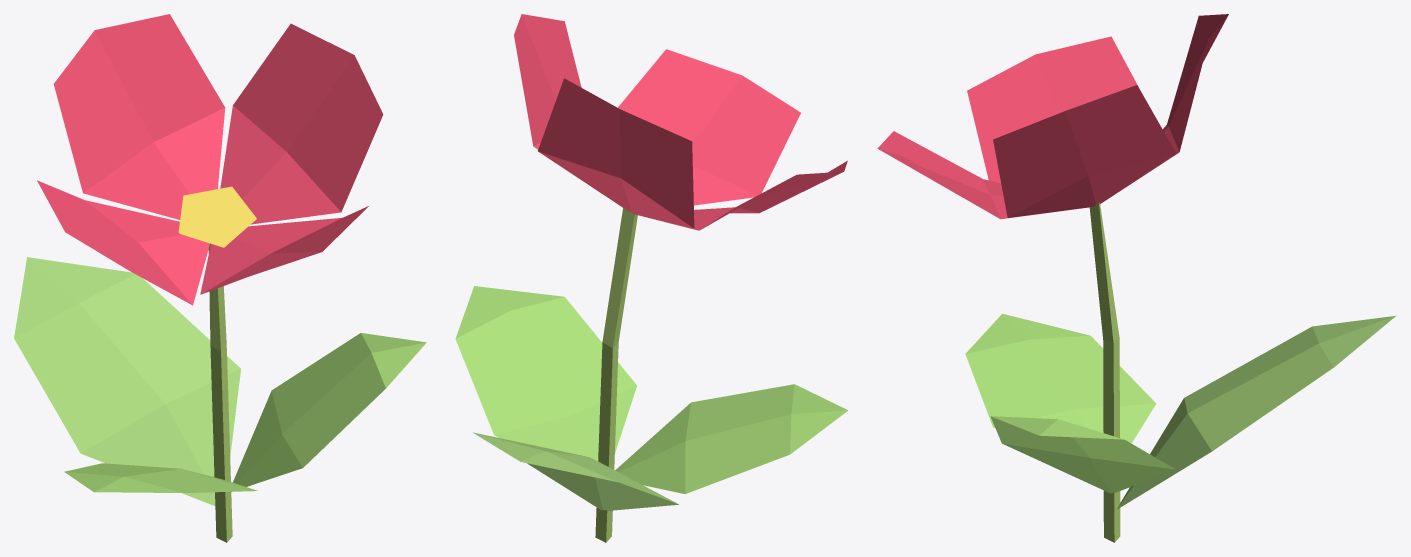
File: Flower_c_OneS_13.fbx
The picture shows the model from 3 angles, left to right: view 1: azimuth 30°, elevation 25°; view 2: azimuth 150°, elevation 25°; view 3: azimuth 270°, elevation 25°; orthographic projection.
Parts seen in each view (by area): view 1: Flower_c_OneS_13; view 2: Flower_c_OneS_13; view 3: Flower_c_OneS_13.
Boxes of the visible parts, x1,y1,x2,y2 form: Flower_c_OneS_13: (14,14,426,542); Flower_c_OneS_13: (455,14,847,542); Flower_c_OneS_13: (877,14,1396,542).
Size of the model in its own units: 0.3072 by 0.397 by 0.3763.
